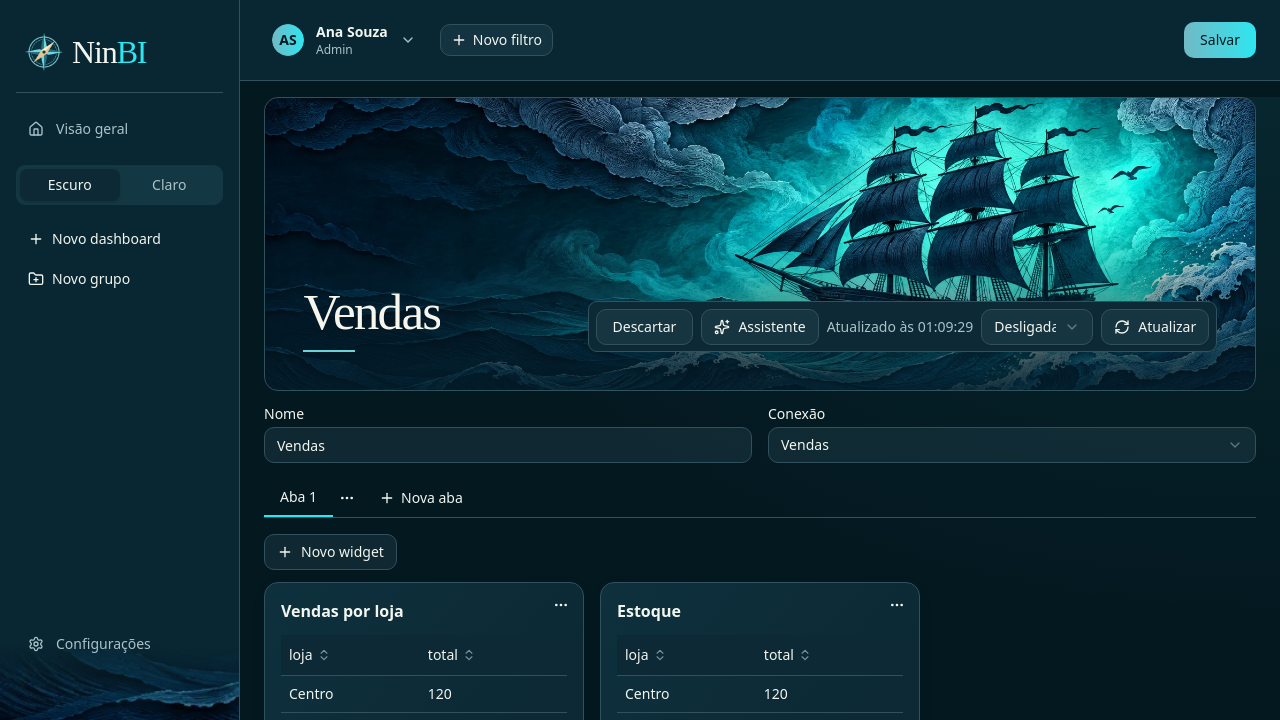
Test case: WidgetCard em edição › WDG-08 Remover widget pede confirmação com o título
Click the button named "Ações do widget Vendas por loja": (561, 605) [547,591,575,619]
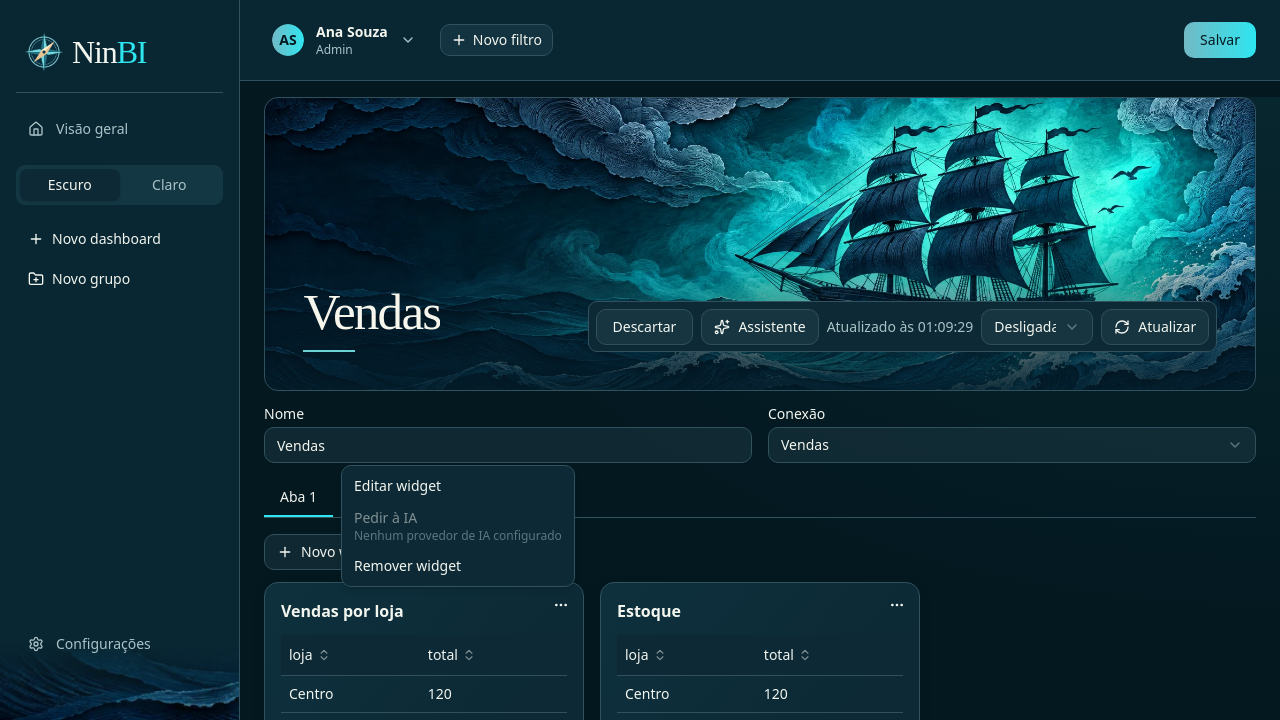
Click the menu item "Remover widget": (408, 566) [354,556,461,575]
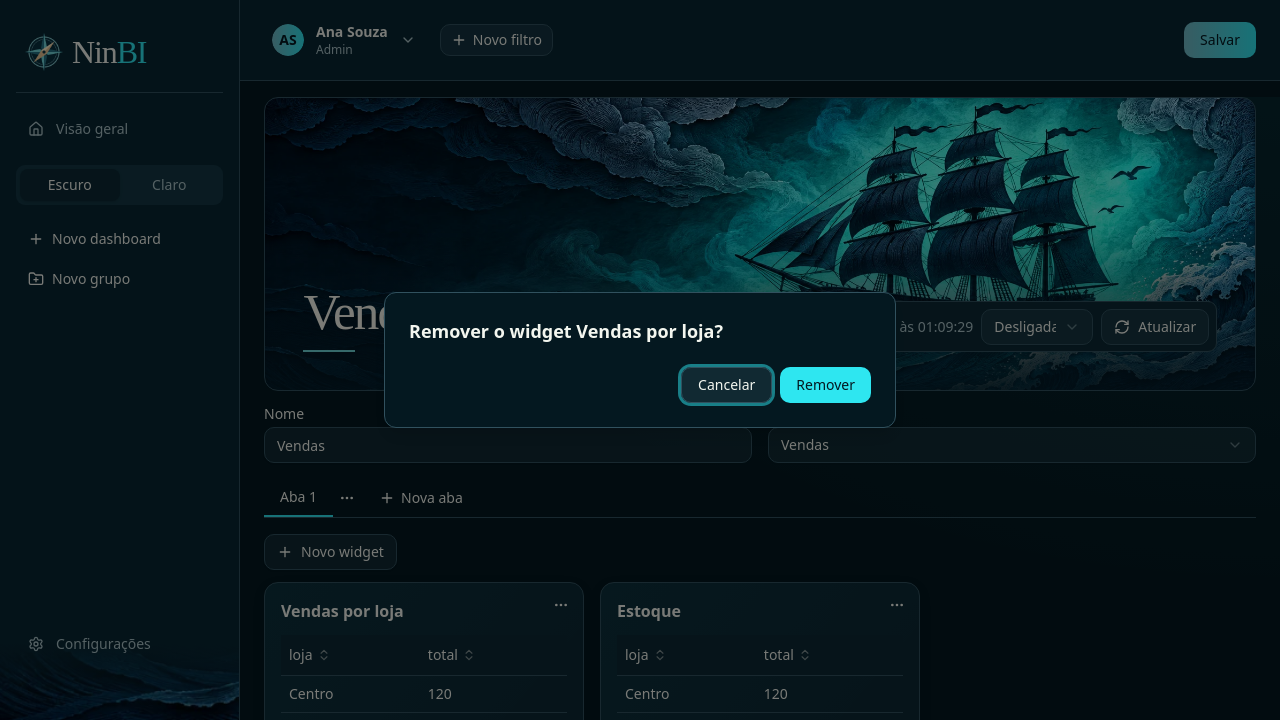
Check: the heading "Remover o widget Vendas por loja?" is shown, box [409,317,723,345]
Click the button "Cancelar": (727, 385) [681,367,772,403]
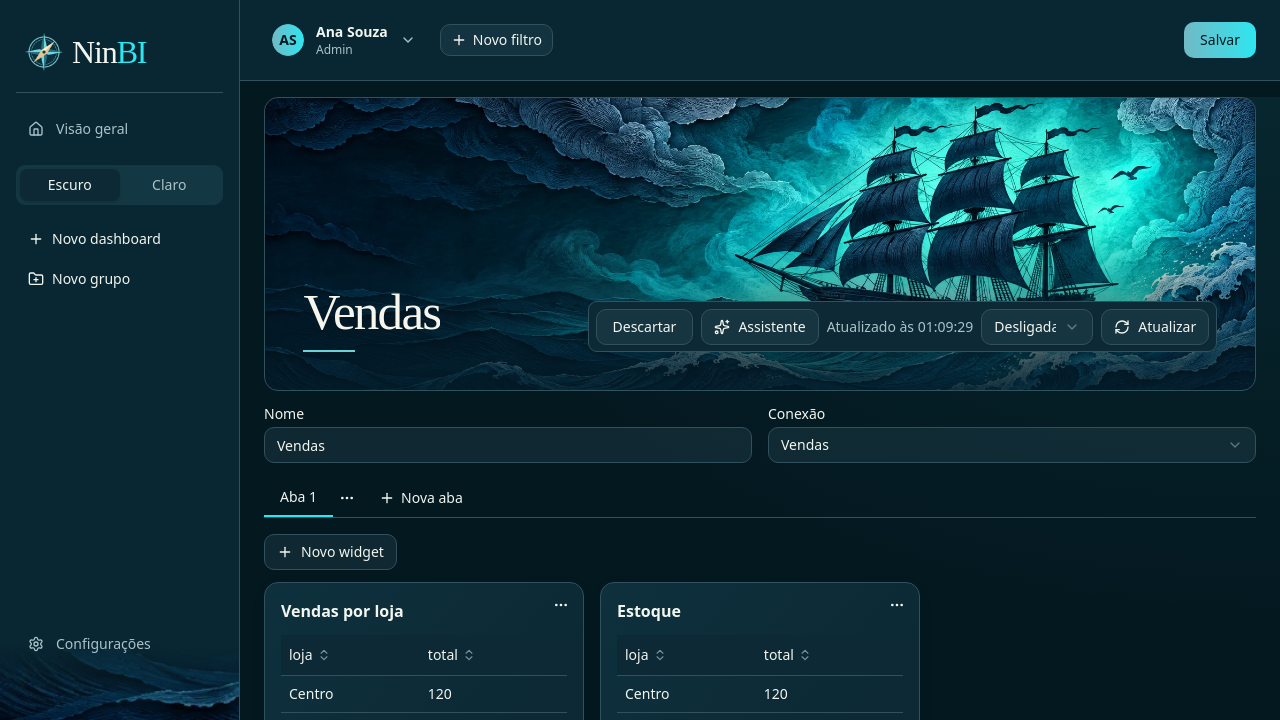
Check: the heading "Vendas por loja" is shown, box [281,600,404,622]
Check: the dialog is gone
